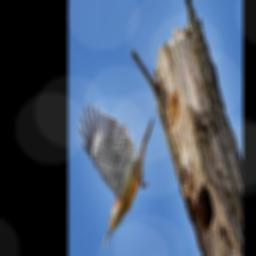Woodpecker: (77, 99, 154, 250)
